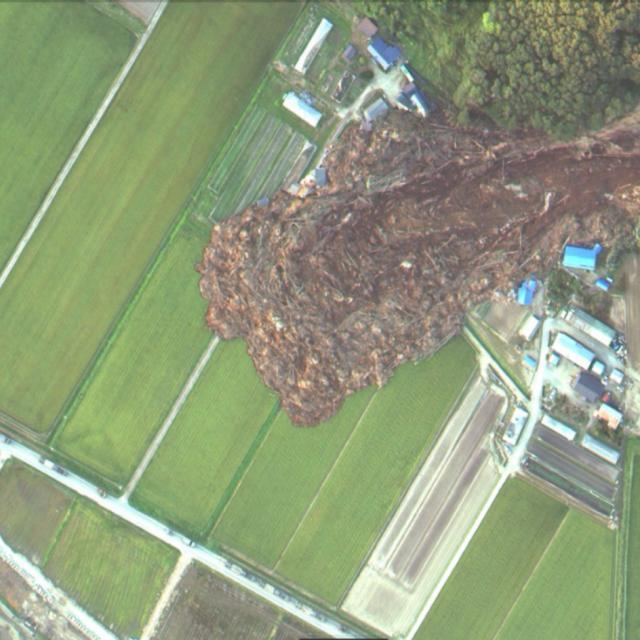landslide: (197, 111, 640, 427)
